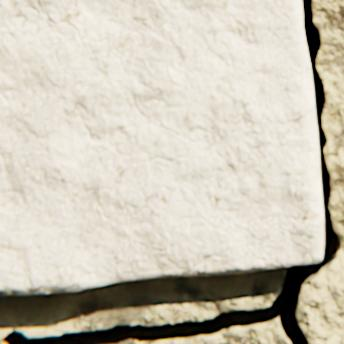brick: (0, 0, 323, 294)
crack: (1, 0, 342, 343)
